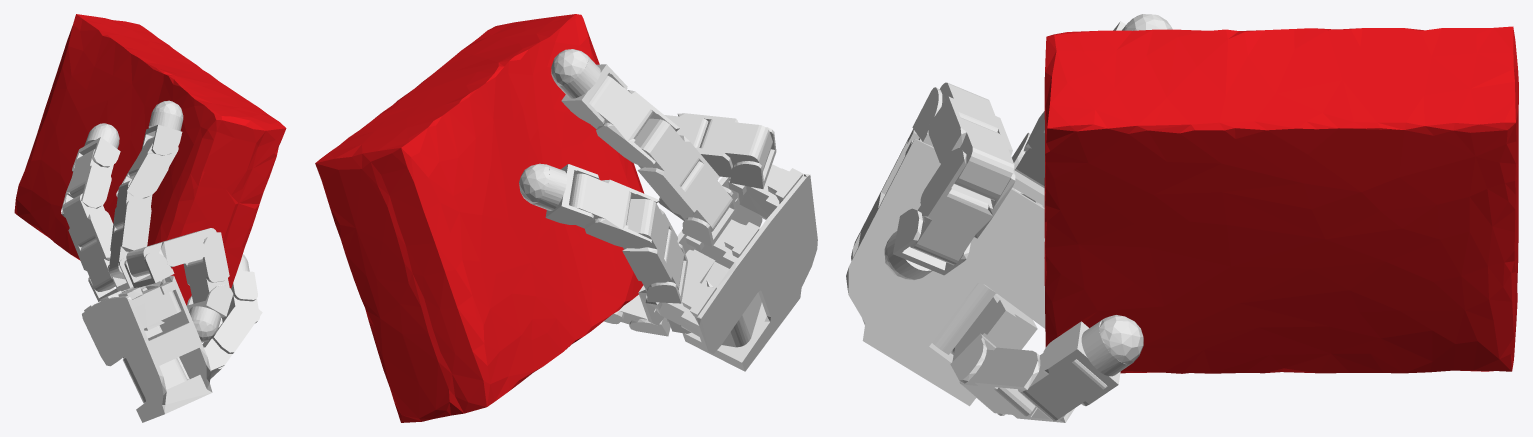
The model's file is graspit_allgero_box.glb.
3 renders of one model, left to right at view 1: azimuth 30°, elevation 25°; view 2: azimuth 150°, elevation 25°; view 3: azimuth 270°, elevation 25°, orthographic. The views are drawn at different scales.
Parts seen in each view (by area): view 1: object_allegro_cracker_box, hand_allegro_cracker_box; view 2: object_allegro_cracker_box, hand_allegro_cracker_box; view 3: object_allegro_cracker_box, hand_allegro_cracker_box.
Boxes of the visible parts, x1,y1,x2,y2 form: object_allegro_cracker_box: (14, 14, 286, 305); hand_allegro_cracker_box: (61, 100, 262, 422); object_allegro_cracker_box: (315, 14, 644, 422); hand_allegro_cracker_box: (519, 49, 817, 371); object_allegro_cracker_box: (1044, 26, 1518, 373); hand_allegro_cracker_box: (846, 14, 1172, 422).
Size of the model in its own units: 0.1706 by 0.2181 by 0.3023.
